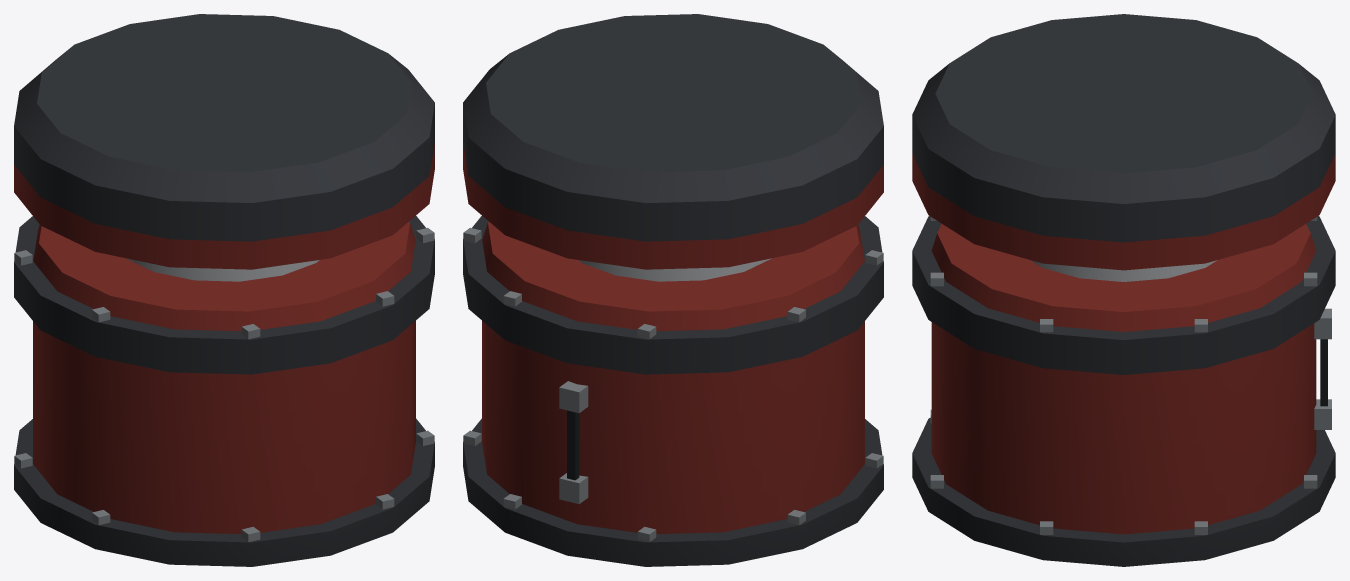
The model's file is machine.piston.red.glb.
The picture shows the model from 3 angles, left to right: view 1: azimuth 30°, elevation 25°; view 2: azimuth 150°, elevation 25°; view 3: azimuth 270°, elevation 25°; orthographic projection.
Visible parts, largest first — view 1: machine_piston_red; view 2: machine_piston_red; view 3: machine_piston_red.
Part boxes in pixels (x1,y1,x2,y2): machine_piston_red: [14, 14, 434, 566]; machine_piston_red: [463, 14, 883, 566]; machine_piston_red: [912, 14, 1335, 566].
Size of what is drawn, in the model's own units: 2.2 by 2.2 by 2.2.
